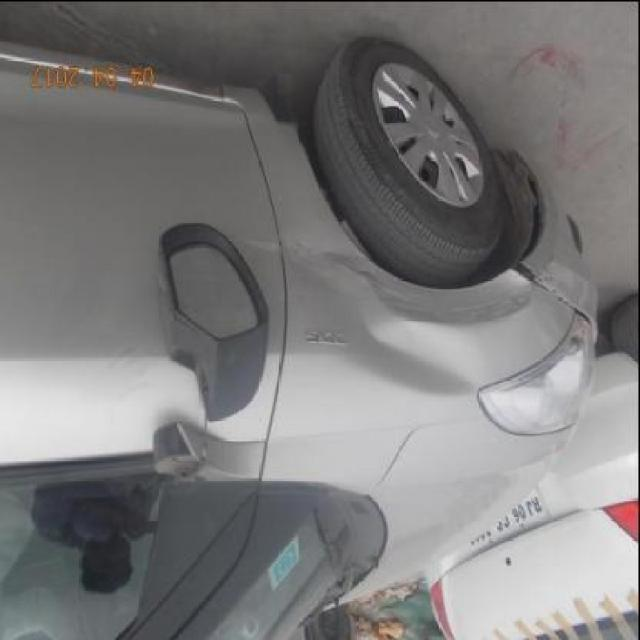damage: (285, 238, 535, 403), (512, 254, 600, 323)
